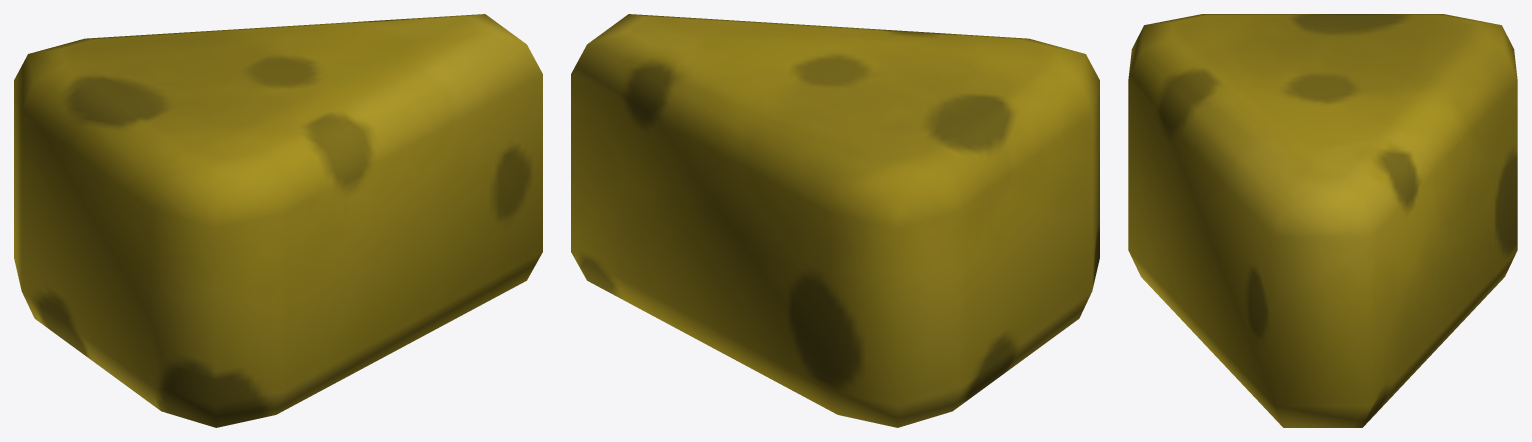
Rendered from MSH_Queso.fbx.
3 views of the same model, side by side, from view 1: azimuth 30°, elevation 25°; view 2: azimuth 150°, elevation 25°; view 3: azimuth 270°, elevation 25° (orthographic). The views are drawn at different scales.
Visible parts, largest first — view 1: MSH_Queso; view 2: MSH_Queso; view 3: MSH_Queso.
Part boxes in pixels (bbox=[...]): MSH_Queso: bbox=[14, 14, 542, 427]; MSH_Queso: bbox=[571, 14, 1099, 427]; MSH_Queso: bbox=[1128, 14, 1517, 427].
Size of the model in its own units: 18.18 by 14.96 by 10.49.
Materials: 1 (1 with a texture image).
